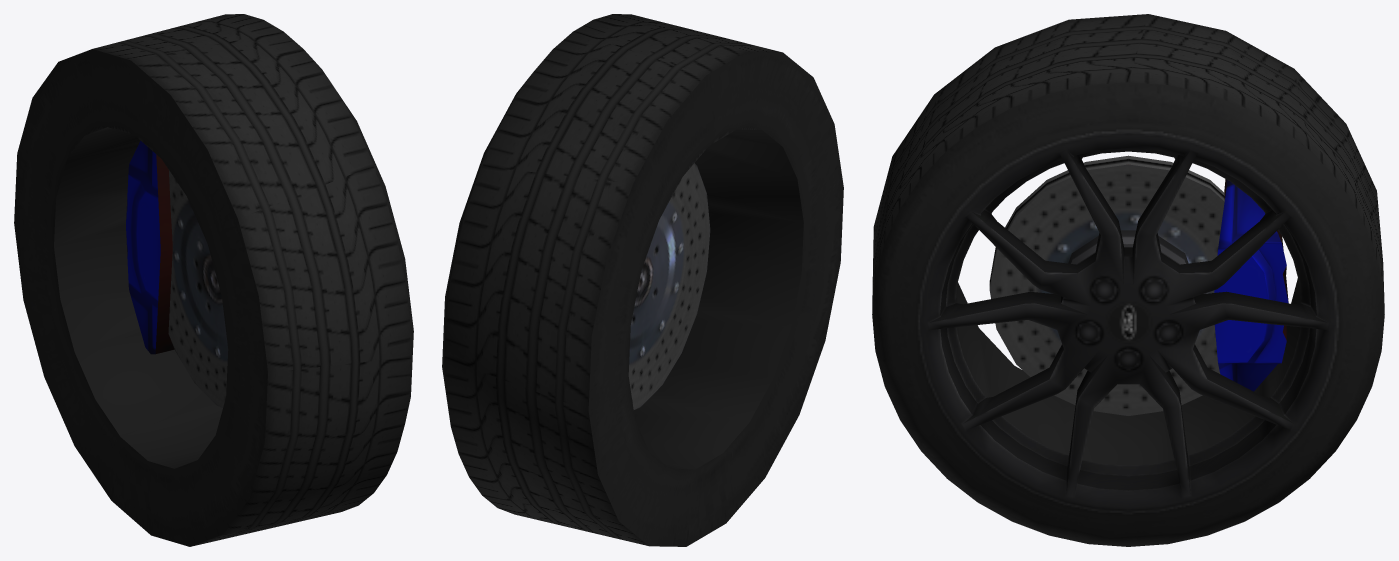
The model's file is WP11_wheelpack.glb.
3 views of the same model, side by side, from view 1: azimuth 30°, elevation 25°; view 2: azimuth 150°, elevation 25°; view 3: azimuth 270°, elevation 25° (orthographic).
Visible parts, largest first — view 1: MOD_ND_WP11_tyre, MOD_ND_WP11_rim, MOD_ND_WP11_brakes; view 2: MOD_ND_WP11_tyre, MOD_ND_WP11_rim, MOD_ND_WP11_brakes; view 3: MOD_ND_WP11_tyre, MOD_ND_WP11_rim, MOD_ND_WP11_brakes.
Part boxes in pixels (x1,y1,x2,y2): MOD_ND_WP11_tyre: (14, 14, 413, 546); MOD_ND_WP11_rim: (54, 127, 222, 468); MOD_ND_WP11_brakes: (126, 140, 228, 407); MOD_ND_WP11_tyre: (442, 14, 843, 546); MOD_ND_WP11_rim: (633, 129, 803, 469); MOD_ND_WP11_brakes: (628, 163, 710, 409); MOD_ND_WP11_tyre: (872, 14, 1384, 546); MOD_ND_WP11_rim: (920, 133, 1336, 511); MOD_ND_WP11_brakes: (989, 155, 1288, 415).
Bounding box in the file's own units: 0.2322 × 0.6414 × 0.6414.
2 materials, 2 textured.
